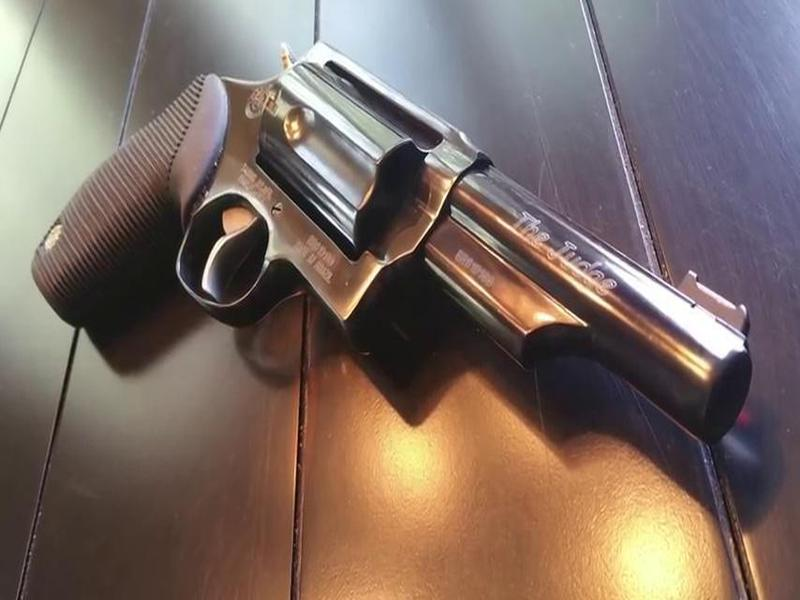Revolver: (41, 25, 767, 468)
